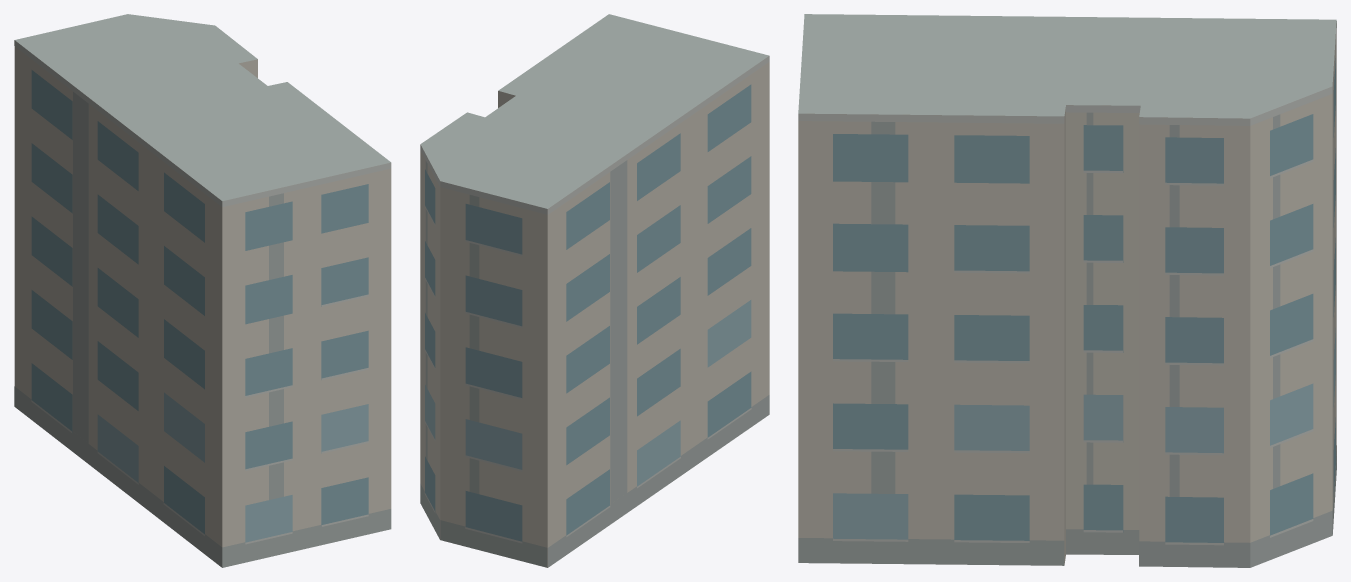
The model's file is survey-upis-32932739.glb.
The picture shows the model from 3 angles, left to right: view 1: azimuth 30°, elevation 25°; view 2: azimuth 150°, elevation 25°; view 3: azimuth 270°, elevation 25°; orthographic projection. The views are drawn at different scales.
Visible parts, largest first — view 1: survey-upis-32932739.tmp; view 2: survey-upis-32932739.tmp; view 3: survey-upis-32932739.tmp.
Part boxes in pixels (box(x1,y1,x2,y2)): survey-upis-32932739.tmp: box(14, 14, 391, 567); survey-upis-32932739.tmp: box(420, 14, 769, 567); survey-upis-32932739.tmp: box(798, 14, 1336, 567).
Bounding box in the file's own units: 7.39 × 14.8 × 16.09.
